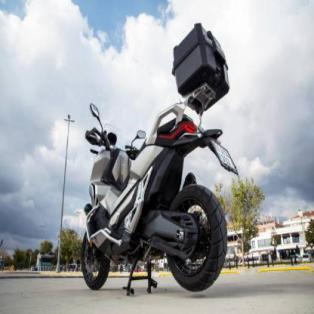Motocicleta: (75, 50, 231, 290)
